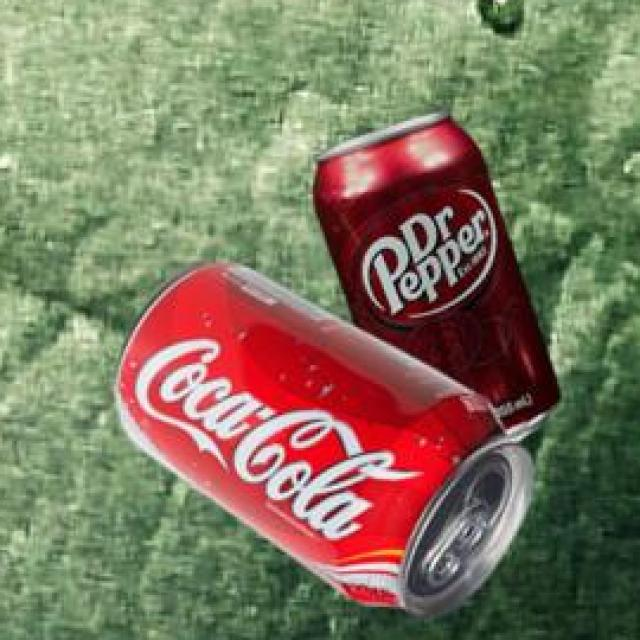logam: (113, 260, 530, 615), (312, 108, 556, 440)
